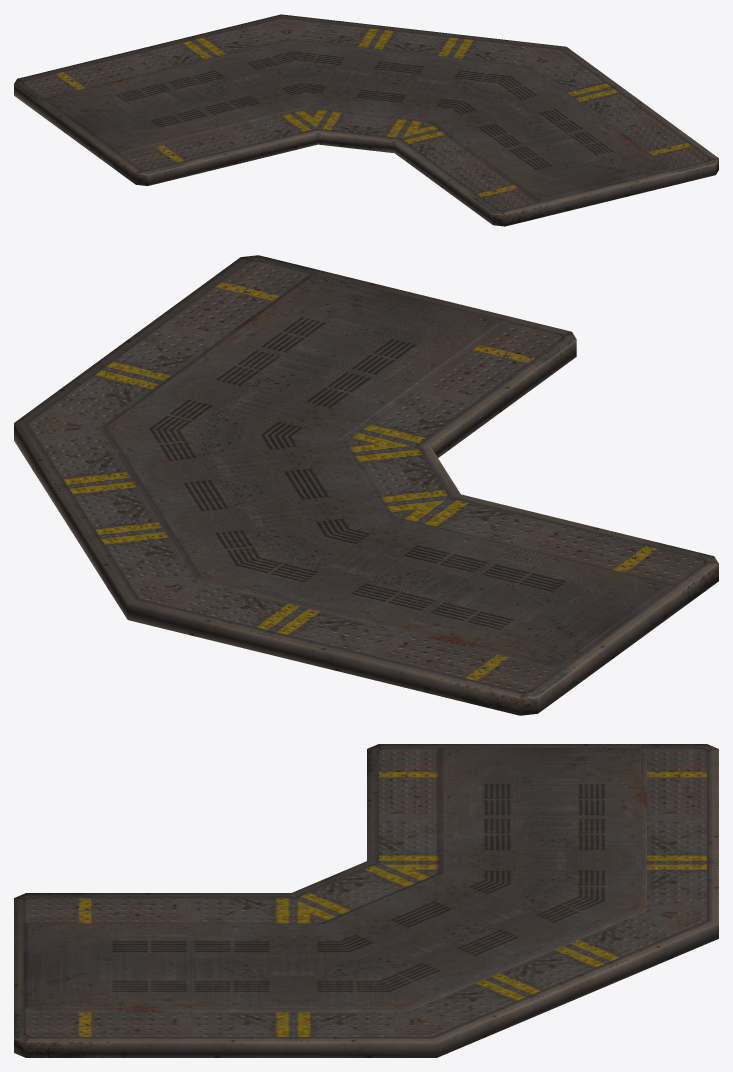
File: Floor_E_2'5qmts_05.fbx
The picture shows the model from 3 angles, top to bottom: view 1: azimuth 30°, elevation 25°; view 2: azimuth 150°, elevation 25°; view 3: azimuth 270°, elevation 25°; orthographic projection. The views are drawn at different scales.
Visible parts, largest first — view 1: Floor_E_2'5qmts_05; view 2: Floor_E_2'5qmts_05; view 3: Floor_E_2'5qmts_05.
Boxes of the visible parts, x1,y1,x2,y2 form: Floor_E_2'5qmts_05: [14, 14, 718, 226]; Floor_E_2'5qmts_05: [14, 255, 718, 715]; Floor_E_2'5qmts_05: [14, 744, 718, 1057].
Bounding box in the file's own units: 500 × 13.81 × 500.
1 material, 1 textured.
